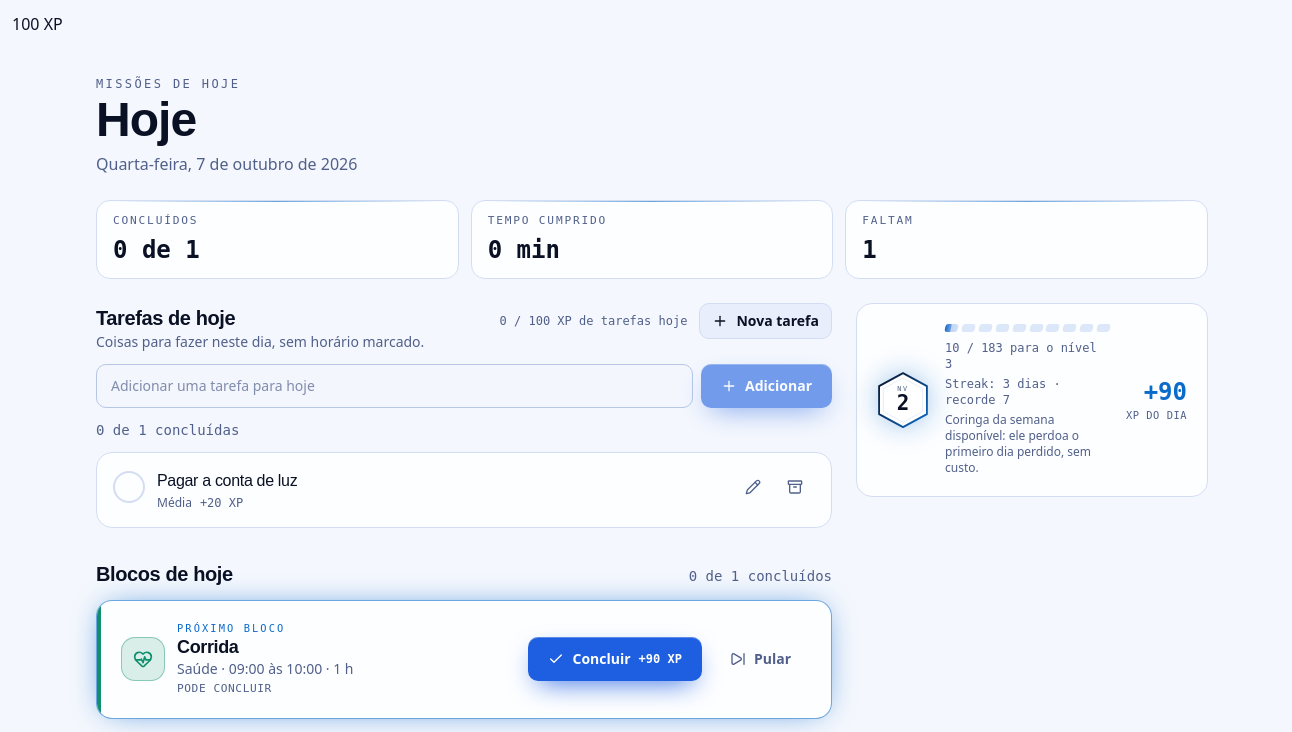
Test: TodayPage › tarefas do dia (sem horário) › concluir uma tarefa atualiza o XP do HUD
This screenshot has width=1292, height=732.
Expected: the text with test id "hud" reads "100 XP", [12,13,63,35]
Click the button named "Concluir “Pagar a conta de luz”" at (129, 487), box [113,471,145,503]
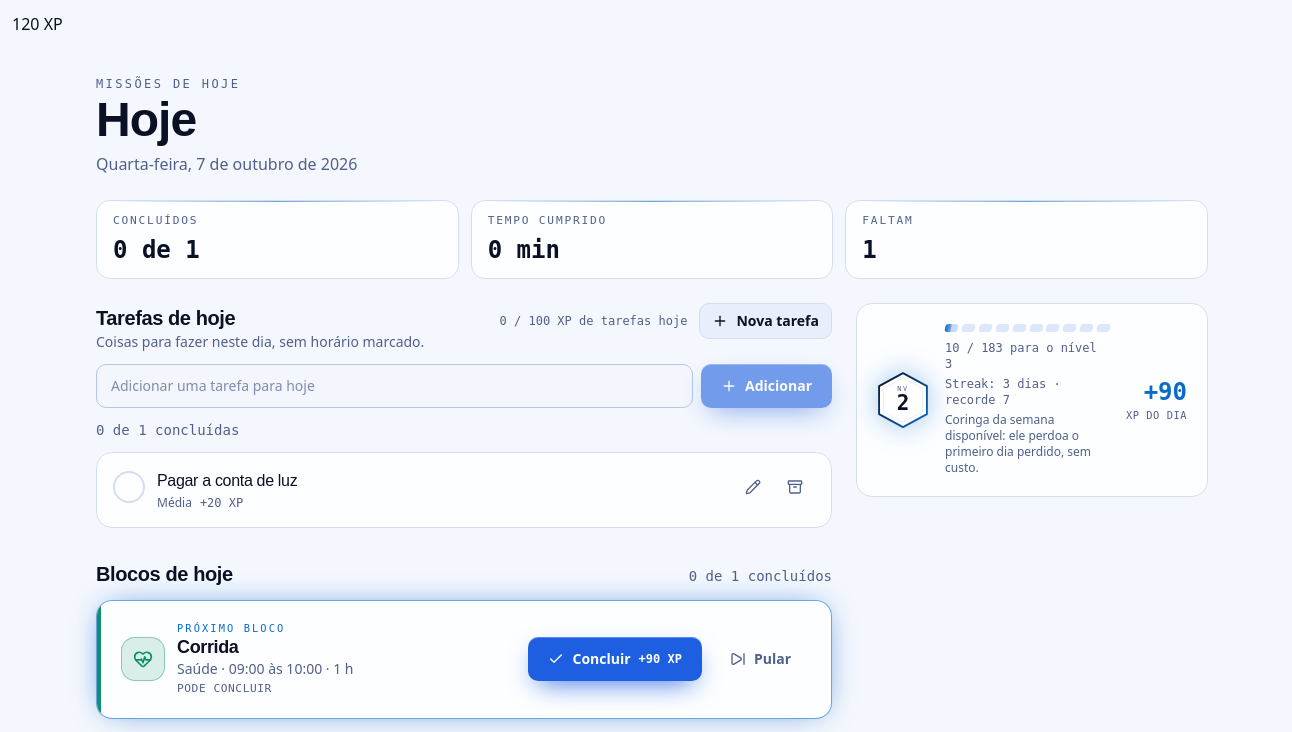
Result: the text with test id "hud" reads "120 XP" at [12,13,63,35]
